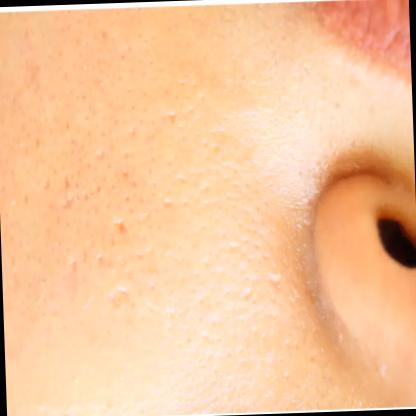Healthy Skin: (0, 0, 324, 416)
